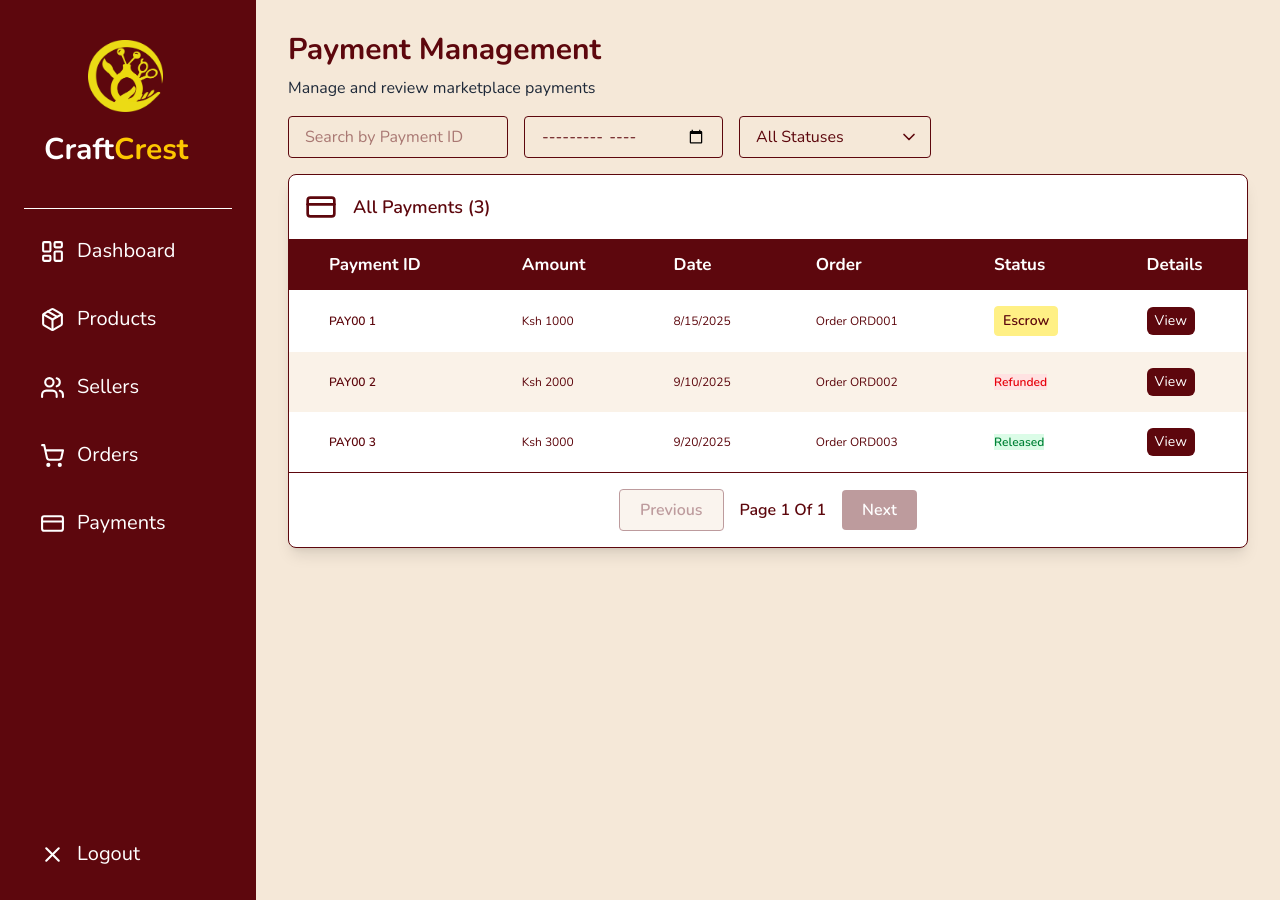
Test: PaymentTable › opens and closes payment details modal
Click the button "View" in the row of "1000" at (1171,320), box [1147,306,1195,334]
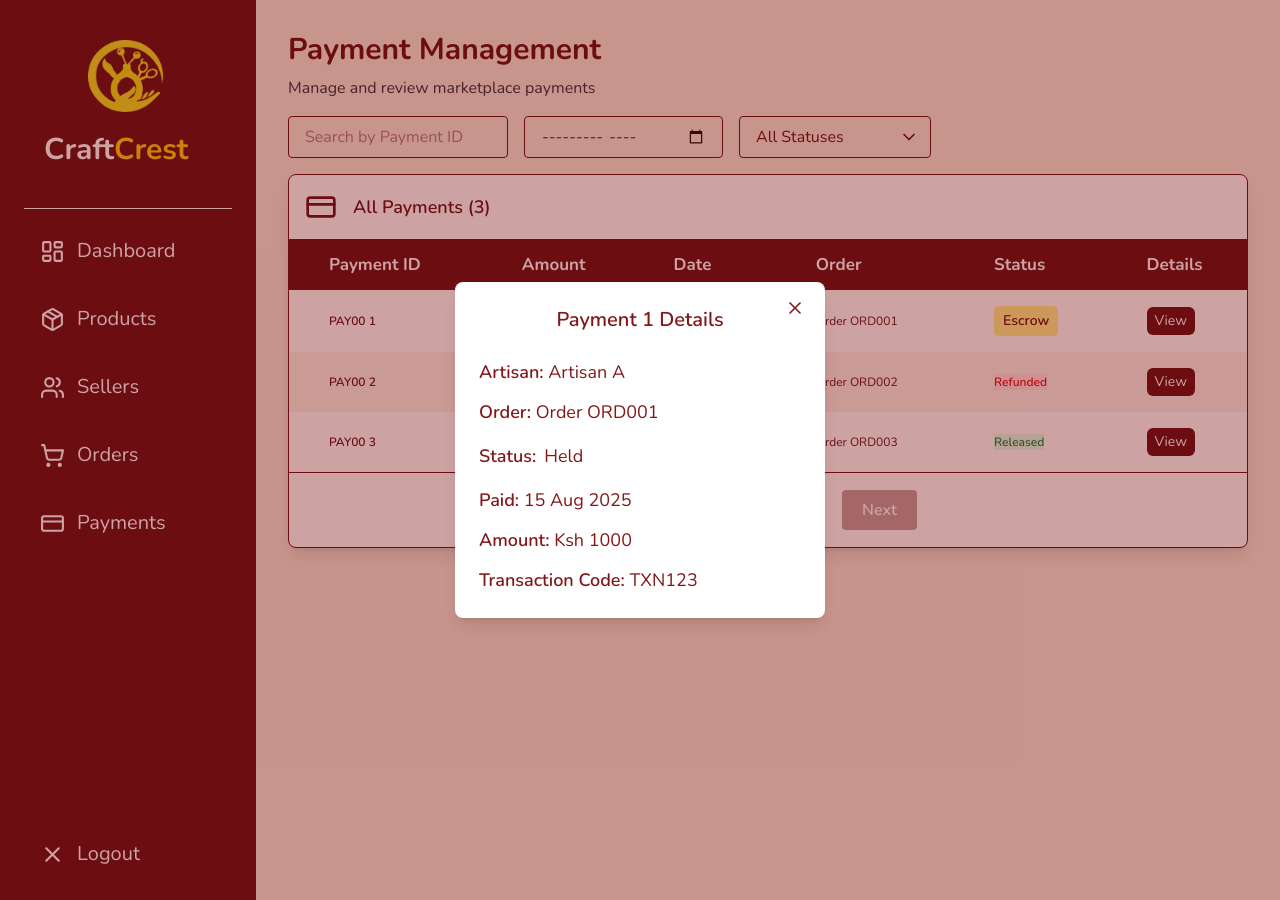
Result: the heading "Payment 1 Details" is shown at [556,306,724,333]
Click the button named "close modal" at (795,308), box [777,294,813,322]
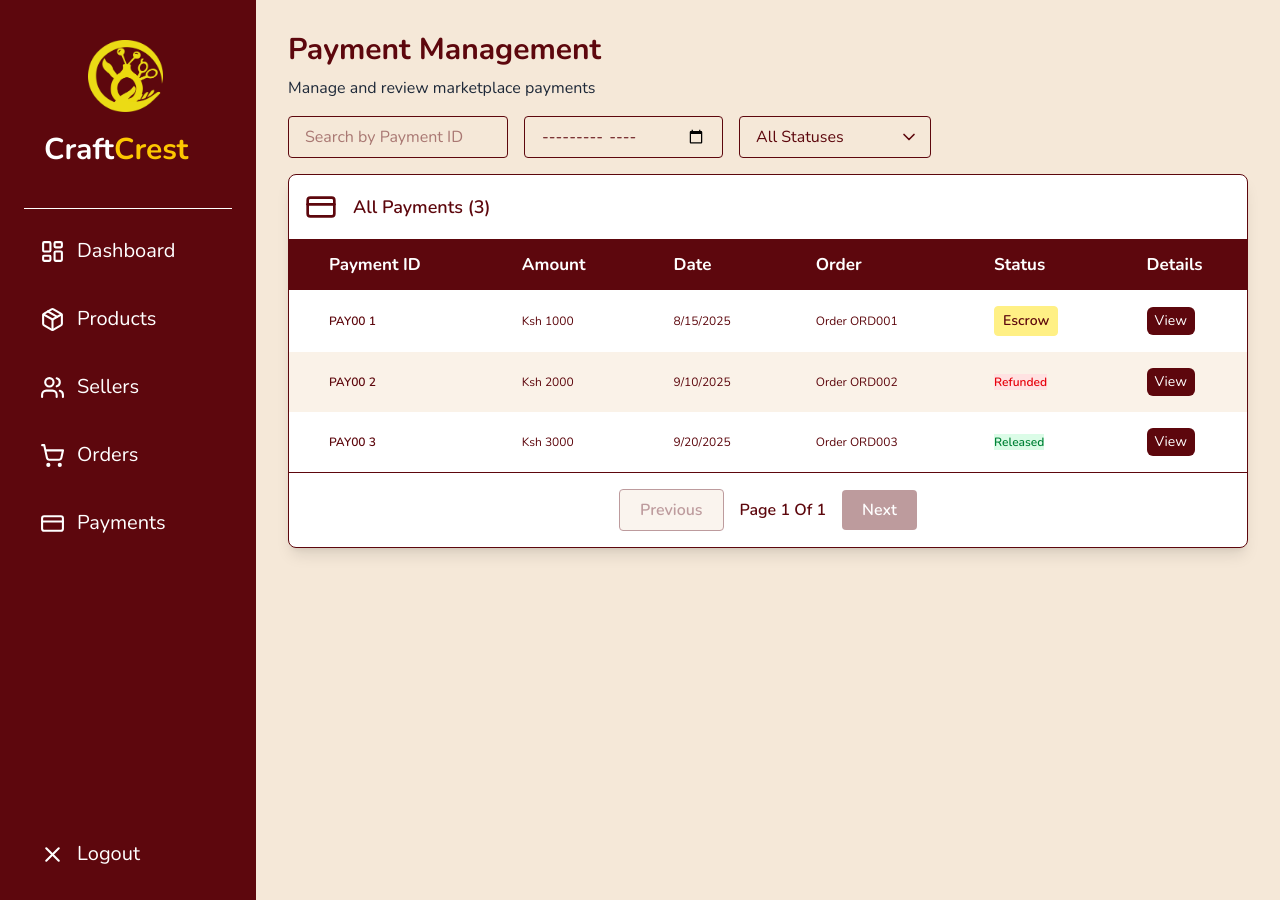
Result: the heading "Payment 1 Details" is gone
